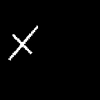single_crochet: (9, 26, 37, 59)
